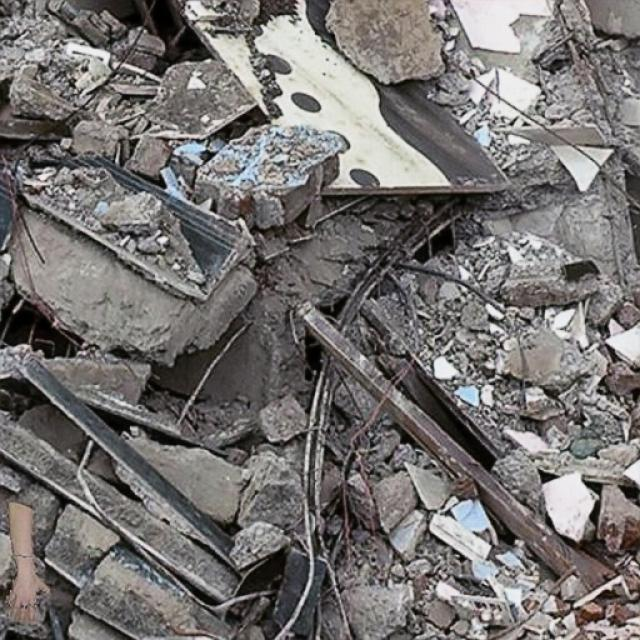Person in Rubble: (5, 502, 50, 622)
